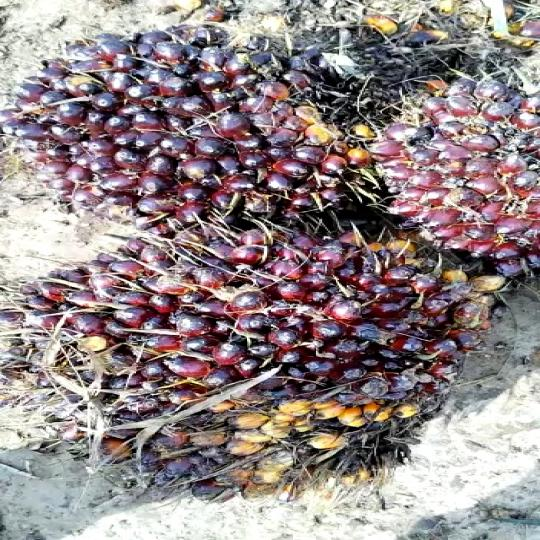kurang masak: (17, 228, 486, 502), (0, 16, 377, 240), (358, 52, 540, 279)
